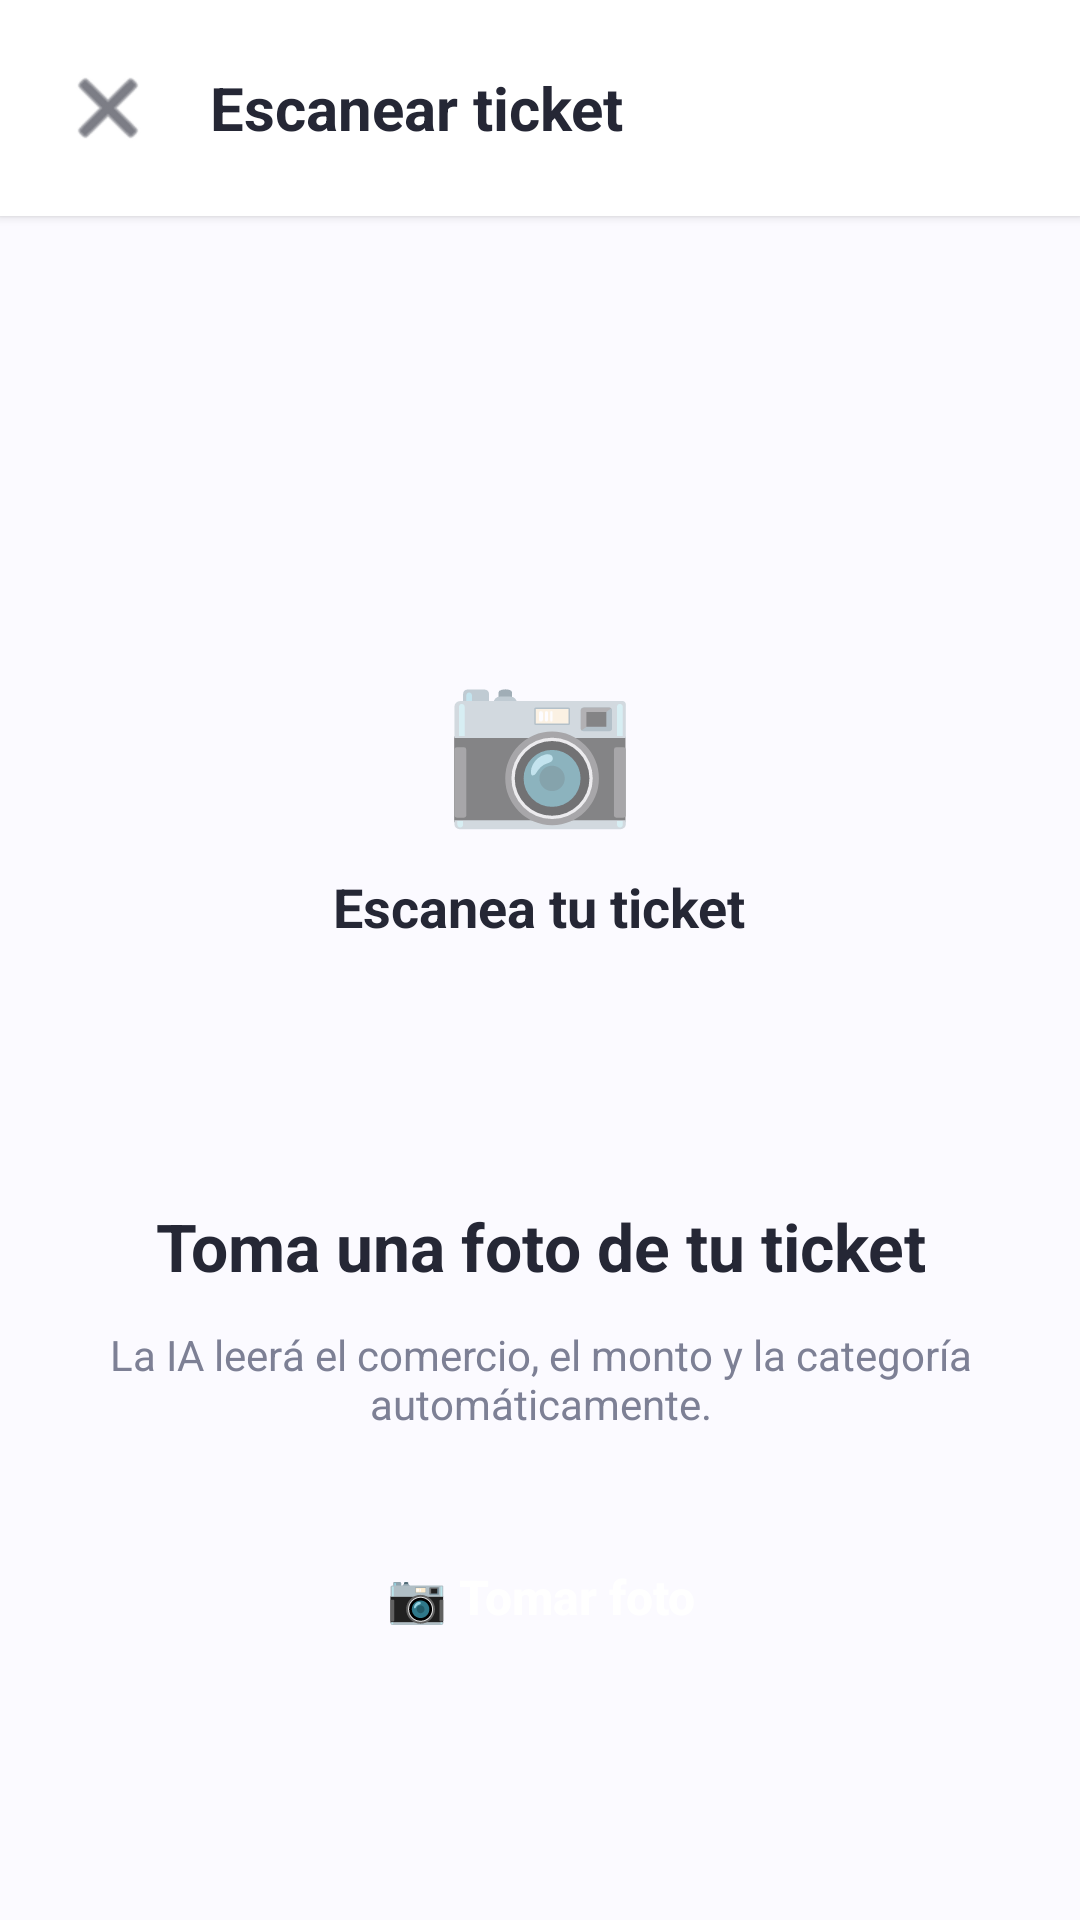

Named icons in this screenshot (1080px×1920px) and their bounding boxes, (x1, y1, x2, y2):
Volver: (78, 78, 138, 138)
